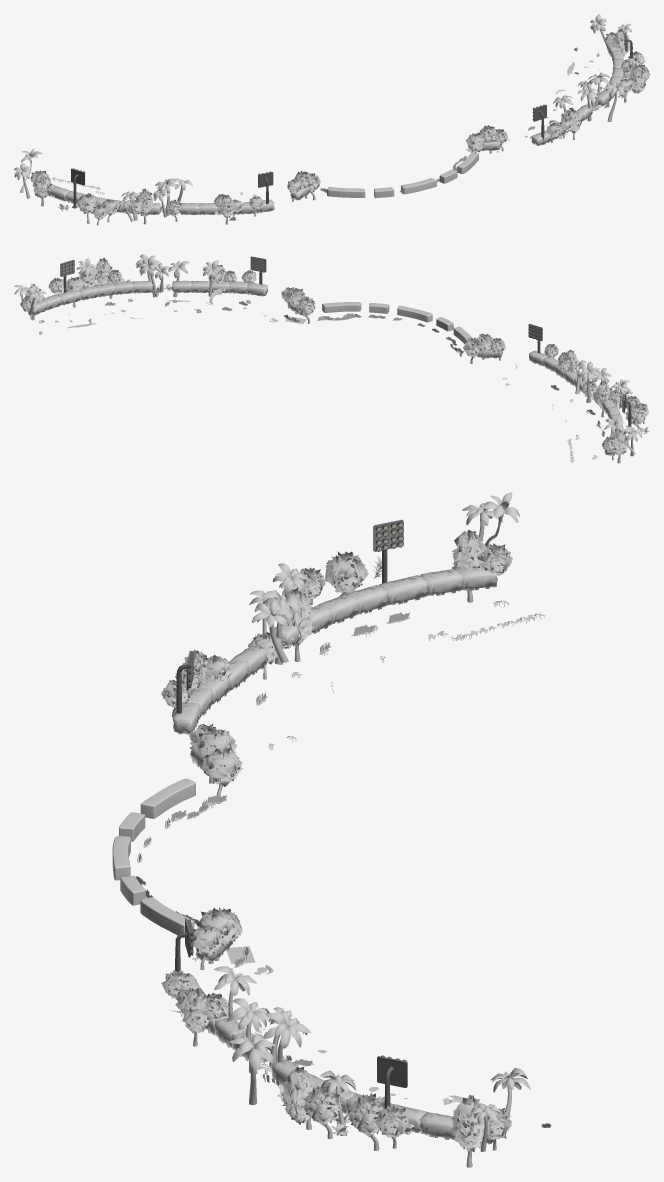
Rendered from pref_Area_Top_Forest_Small_beta_01_lv3.fbx.
The picture shows the model from 3 angles, top to bottom: view 1: azimuth 30°, elevation 25°; view 2: azimuth 150°, elevation 25°; view 3: azimuth 270°, elevation 25°; orthographic projection. The views are drawn at different scales.
Visible parts, largest first — view 1: pref_sm_beach_techgrassny01b_mirror_beta_lv3, sm_beach_techqiutree03_lv3 (×2), pref_sm_beach_techgrassny01b_beta_lv3, pref_sm_beach_techgtree06d_lv3, sm_beach_techqiutree02_lv3, pref_sm_beach_techbiglight_lv3; view 2: pref_sm_beach_techgrassny01b_mirror_beta_lv3, pref_sm_beach_techgtree06d_lv3 (×2), pref_sm_beach_techgrassny01b_beta_lv3, sm_beach_techqiutree03_lv3; view 3: sm_beach_techqiutree02_lv3 (×4), sm_beach_techqiutree03_lv3 (×3), pref_sm_beach_techgrassny01b_mirror_beta_lv3, pref_sm_beach_techgtree06d_lv3 (×2), pref_sm_beach_techbiglight_lv3 (×2), pref_sm_beach_techgrassny01b_beta_lv3, pref_sm_beach_techvegetation01_lv3.
Part boxes in pixels (bbox=[...]): pref_sm_beach_techgrassny01b_mirror_beta_lv3: bbox=[401, 152, 478, 194]; sm_beach_techqiutree03_lv3 (×2): bbox=[32, 65, 645, 198]; pref_sm_beach_techgrassny01b_beta_lv3: bbox=[327, 187, 394, 197]; pref_sm_beach_techgtree06d_lv3: bbox=[603, 81, 629, 121]; sm_beach_techqiutree02_lv3: bbox=[76, 193, 98, 213]; pref_sm_beach_techbiglight_lv3: bbox=[71, 168, 85, 208]; pref_sm_beach_techgrassny01b_mirror_beta_lv3: bbox=[322, 302, 432, 322]; pref_sm_beach_techgtree06d_lv3 (×2): bbox=[138, 255, 599, 402]; pref_sm_beach_techgrassny01b_beta_lv3: bbox=[436, 317, 472, 343]; sm_beach_techqiutree03_lv3: bbox=[95, 257, 112, 284]; sm_beach_techqiutree02_lv3 (×4): bbox=[202, 551, 384, 1135]; sm_beach_techqiutree03_lv3 (×3): bbox=[281, 530, 488, 1152]; pref_sm_beach_techgrassny01b_mirror_beta_lv3: bbox=[112, 835, 194, 937]; pref_sm_beach_techgtree06d_lv3 (×2): bbox=[229, 1010, 311, 1105]; pref_sm_beach_techbiglight_lv3 (×2): bbox=[373, 519, 407, 1134]; pref_sm_beach_techgrassny01b_beta_lv3: bbox=[119, 778, 195, 841]; pref_sm_beach_techvegetation01_lv3: bbox=[379, 575, 428, 605].
Size of the model in its own units: 141 by 11.18 by 43.28.
